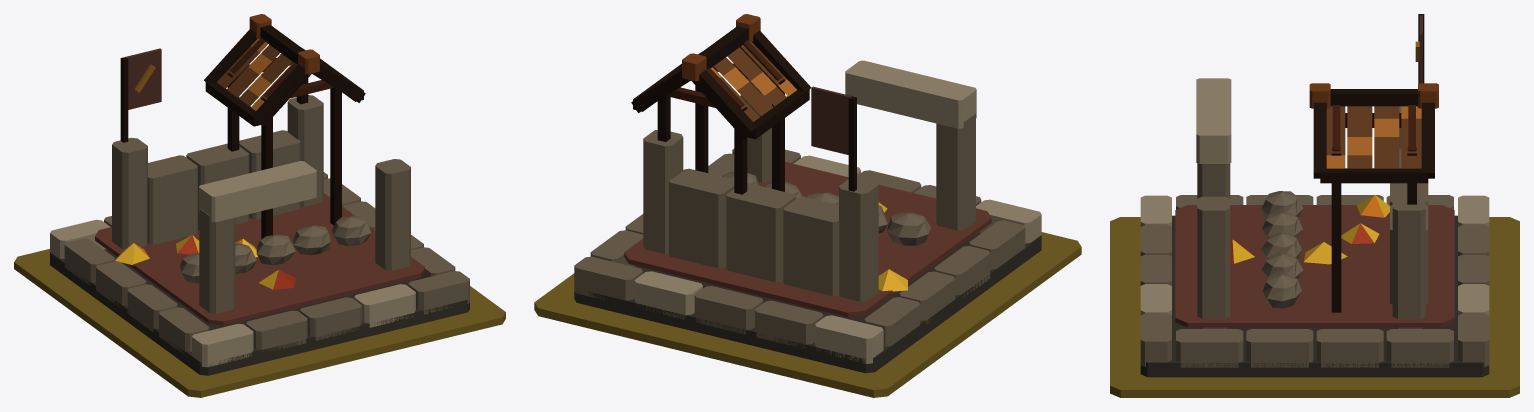
The model's file is sunken-chapel_t5.glb.
3 renders of one model, left to right at view 1: azimuth 30°, elevation 25°; view 2: azimuth 150°, elevation 25°; view 3: azimuth 270°, elevation 25°, orthographic. The views are drawn at different scales.
Parts seen in each view (by area): view 1: MMR | sunken-chapel | T05 Architecture.001, MMR | sunken-chapel | Tier 05 Ground.001, MMR | sunken-chapel | T05 Banner Flag 1.001, MMR | sunken-chapel | T05 Autumn Dressing.001; view 2: MMR | sunken-chapel | T05 Architecture.001, MMR | sunken-chapel | Tier 05 Ground.001, MMR | sunken-chapel | T05 Banner Flag 1.001, MMR | sunken-chapel | T05 Autumn Dressing.001; view 3: MMR | sunken-chapel | T05 Architecture.001, MMR | sunken-chapel | Tier 05 Ground.001, MMR | sunken-chapel | T05 Autumn Dressing.001.
Boxes of the visible parts, x1,y1,x2,y2 form: MMR | sunken-chapel | T05 Architecture.001: [50, 14, 469, 375]; MMR | sunken-chapel | Tier 05 Ground.001: [14, 249, 505, 397]; MMR | sunken-chapel | T05 Banner Flag 1.001: [125, 48, 161, 109]; MMR | sunken-chapel | T05 Autumn Dressing.001: [115, 235, 295, 289]; MMR | sunken-chapel | T05 Architecture.001: [574, 14, 1041, 373]; MMR | sunken-chapel | Tier 05 Ground.001: [534, 232, 1081, 397]; MMR | sunken-chapel | T05 Banner Flag 1.001: [811, 86, 851, 154]; MMR | sunken-chapel | T05 Autumn Dressing.001: [878, 202, 907, 291]; MMR | sunken-chapel | T05 Architecture.001: [1140, 14, 1489, 377]; MMR | sunken-chapel | Tier 05 Ground.001: [1110, 217, 1519, 397]; MMR | sunken-chapel | T05 Autumn Dressing.001: [1230, 195, 1389, 264].
Size of the model in its own units: 2.35 by 1.59 by 2.35.
1 material, 1 textured.
